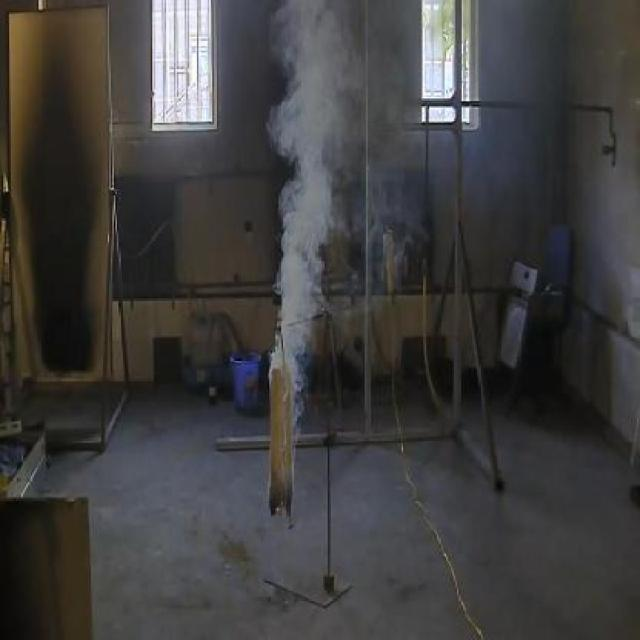fire: (262, 2, 370, 368)
